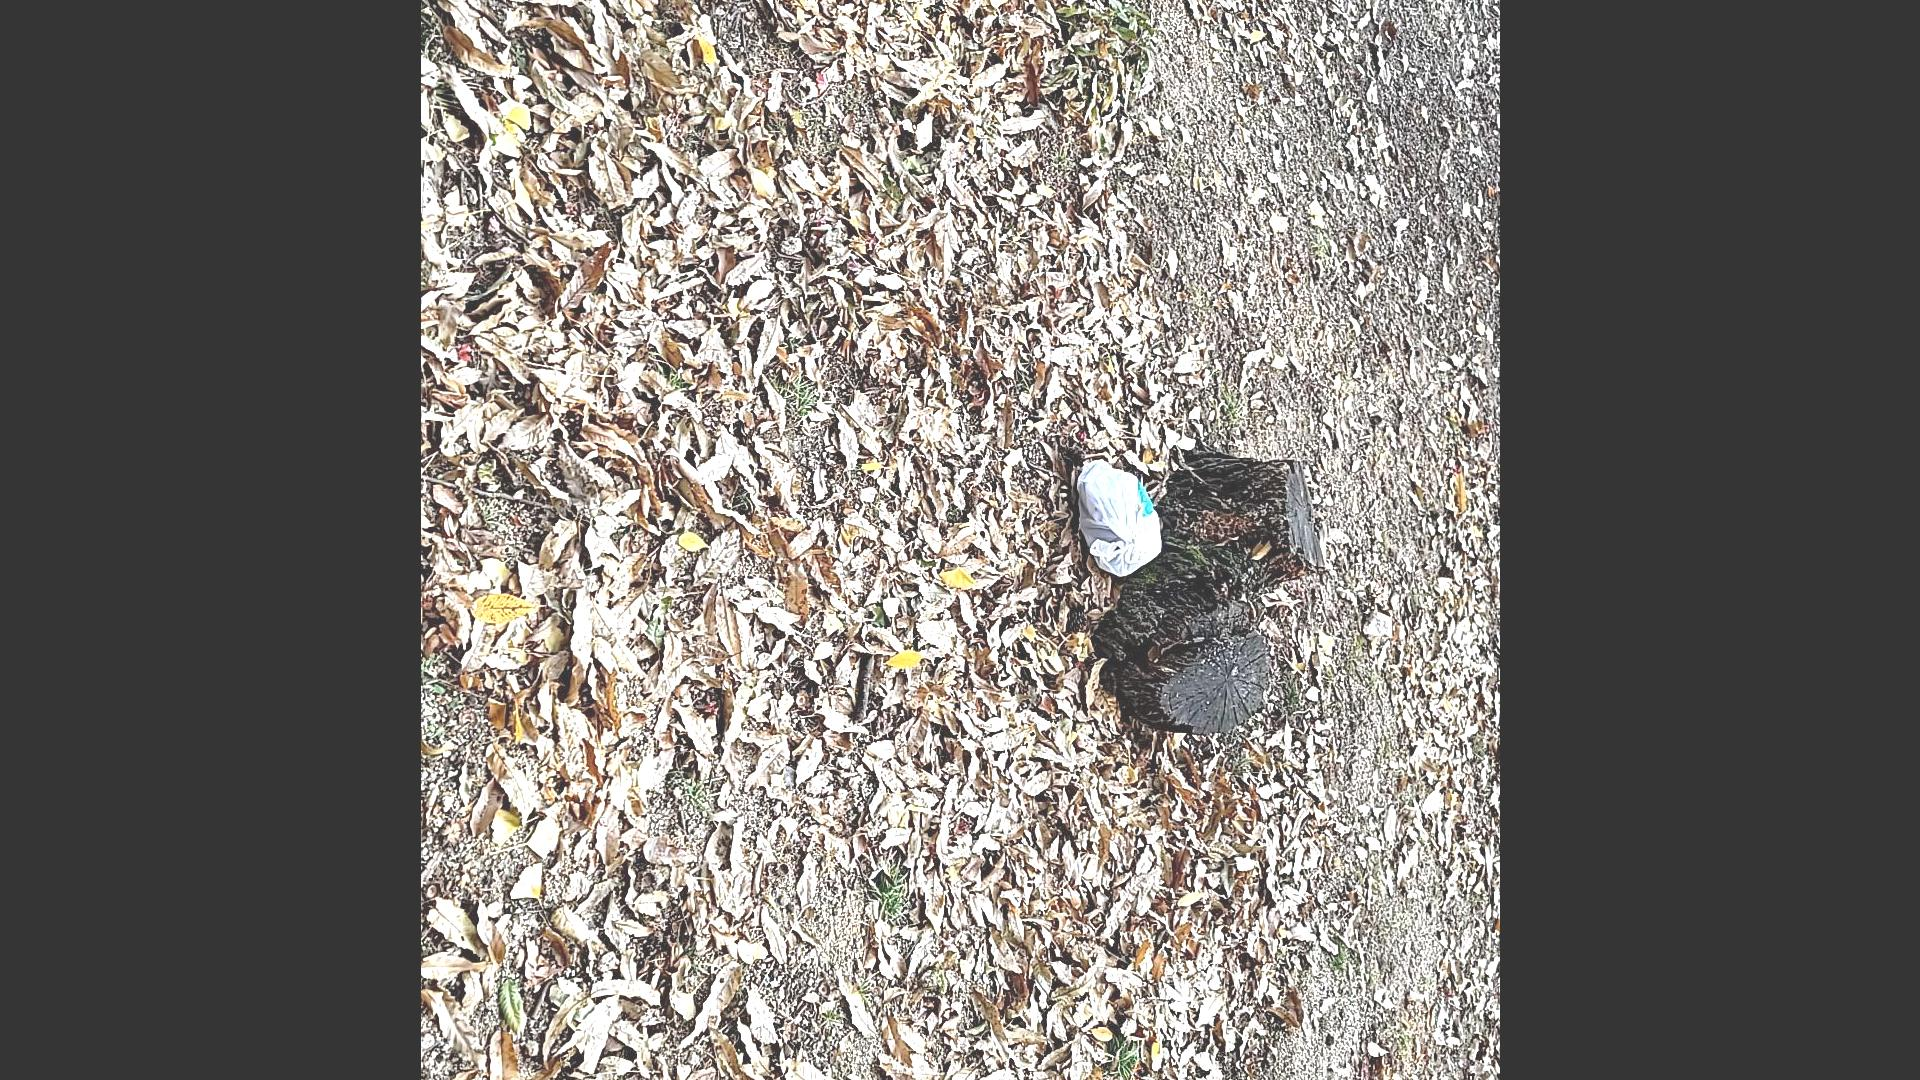white_bag: (1071, 452, 1164, 580)
